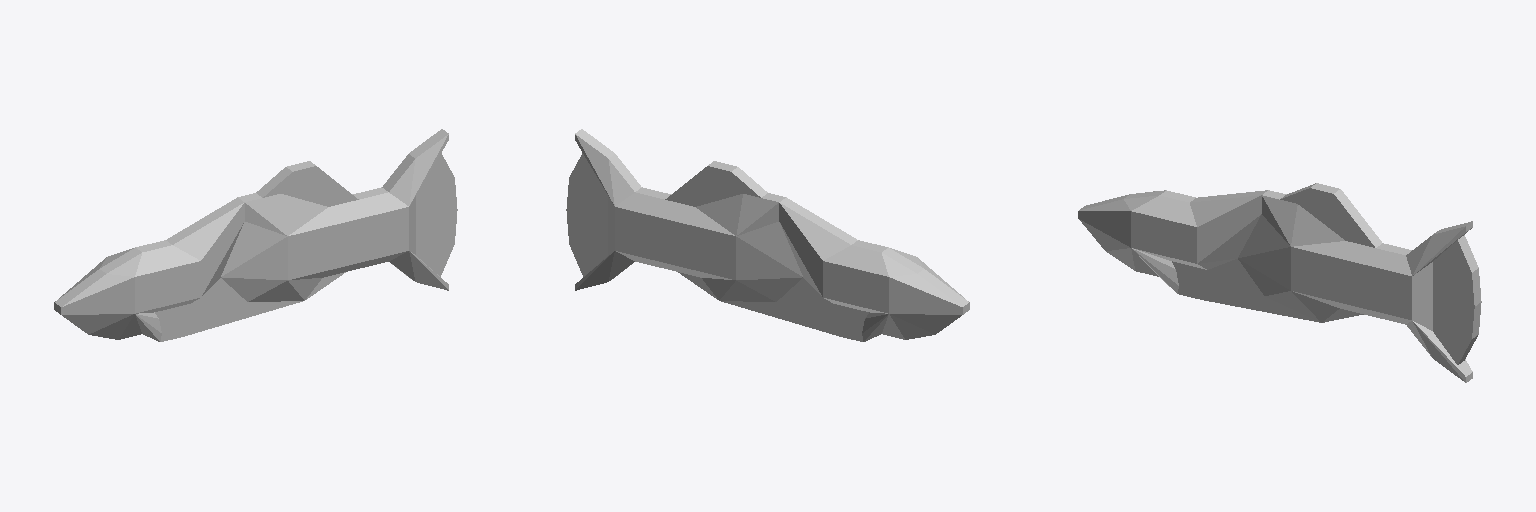
File: endlerslivebearer.obj
3 renders of one model, left to right at view 1: azimuth 30°, elevation 25°; view 2: azimuth 150°, elevation 25°; view 3: azimuth 330°, elevation 25°, orthographic.
Parts seen in each view (by area): view 1: SketchUp, SketchUp_ID34; view 2: SketchUp, SketchUp_ID34; view 3: SketchUp, SketchUp_ID34.
Boxes of the visible parts, <box> form: SketchUp: <box>54,129,457,341</box>; SketchUp_ID34: <box>119,187,408,341</box>; SketchUp: <box>566,129,969,341</box>; SketchUp_ID34: <box>615,187,904,341</box>; SketchUp: <box>1078,183,1481,382</box>; SketchUp_ID34: <box>1131,190,1411,293</box>.
Bounding box in the file's own units: 65.93 × 25 × 8.